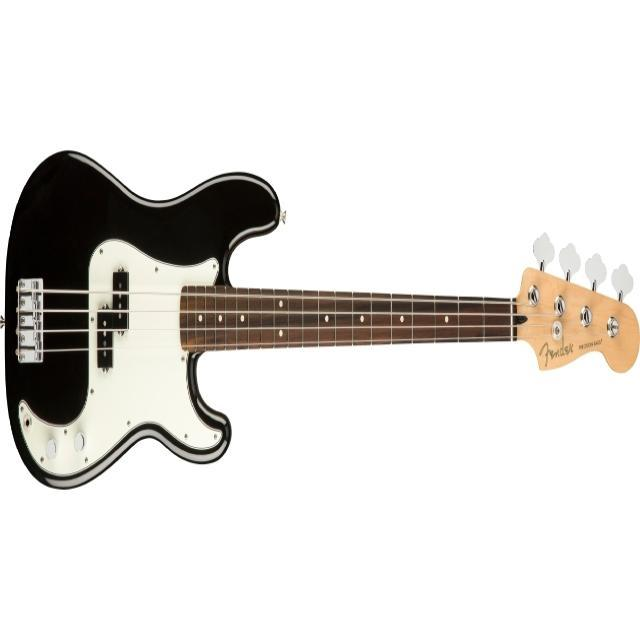bass: (5, 152, 638, 487)
